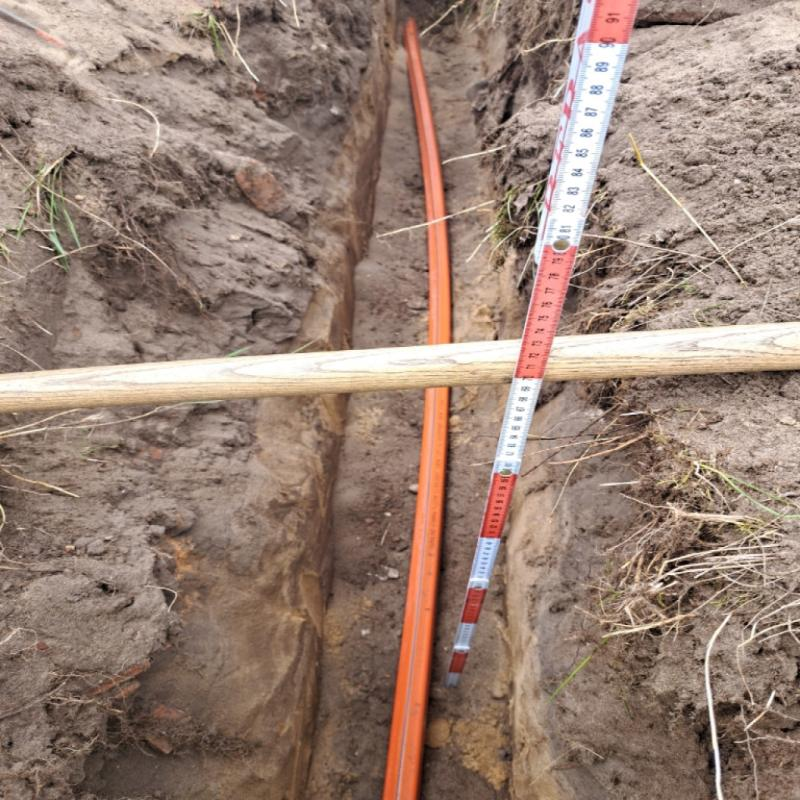Orang-Speednetrohrchen: (386, 388, 450, 800), (404, 23, 452, 344)
